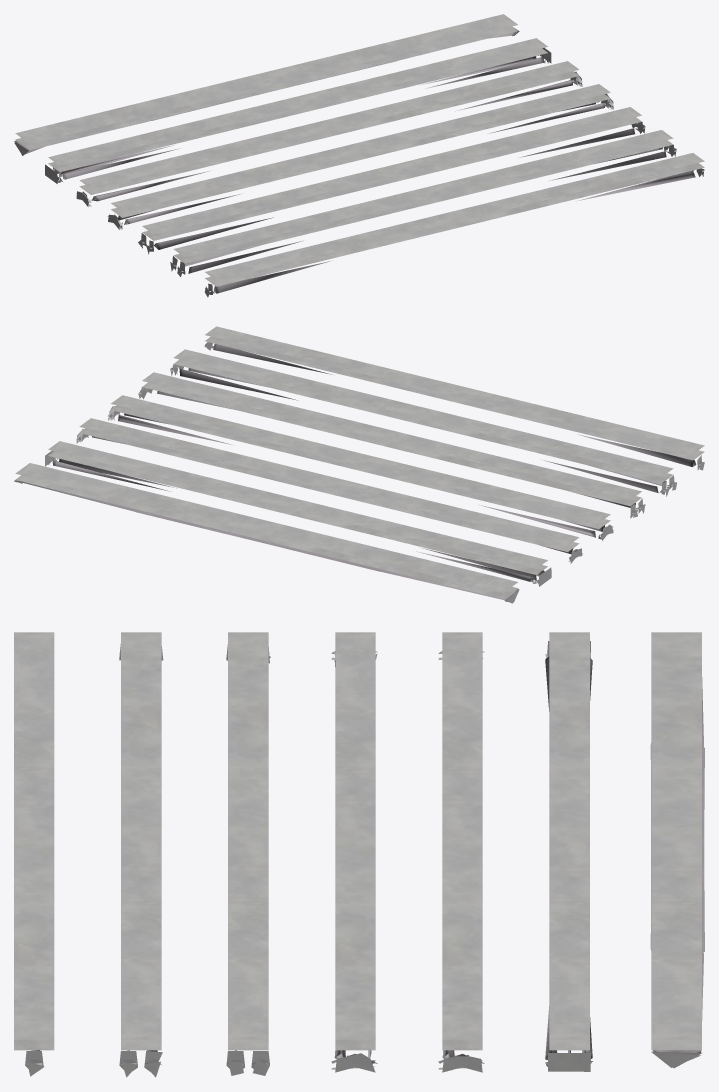
Rendered from ph_mounted_fluorescent_lights.glb.
3 views of the same model, one above another, from view 1: azimuth 30°, elevation 25°; view 2: azimuth 150°, elevation 25°; view 3: azimuth 270°, elevation 25° (orthographic). The views are drawn at different scales.
Parts seen in each view (by area): view 1: mounted_fluorescent_lights_a; view 2: mounted_fluorescent_lights_a; view 3: mounted_fluorescent_lights_a.
Boxes of the visible parts, x1,y1,x2,y2 form: mounted_fluorescent_lights_a: (14,14,704,297); mounted_fluorescent_lights_a: (14,326,704,603); mounted_fluorescent_lights_a: (14,632,704,1077).
Size of the model in its own units: 0.9122 by 0.0366 by 0.6454.
2 materials, 2 textured.
